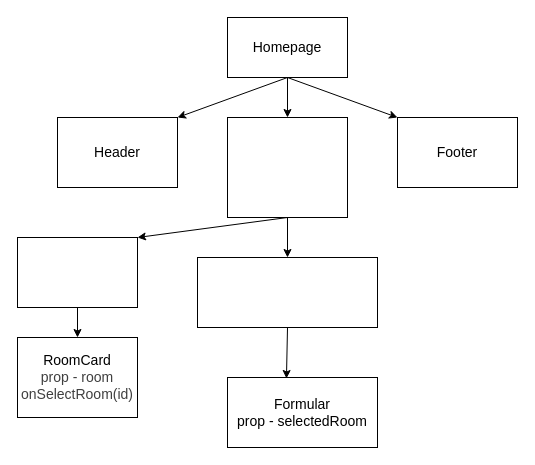
Some shapes in this 535 by 465 pixel diagram are drawn without their labels. The shapes that lost their labels are listed below. From the top down, each one's centre as x and y in pixels, then its label:
point (287, 167): RoomsPage fetch - rooms state - rooms state - selectedRoomId
point (77, 272): RoomsList prop - room onSelectRoom(id)
point (287, 292): RoomDetail prop - selectedRoom
